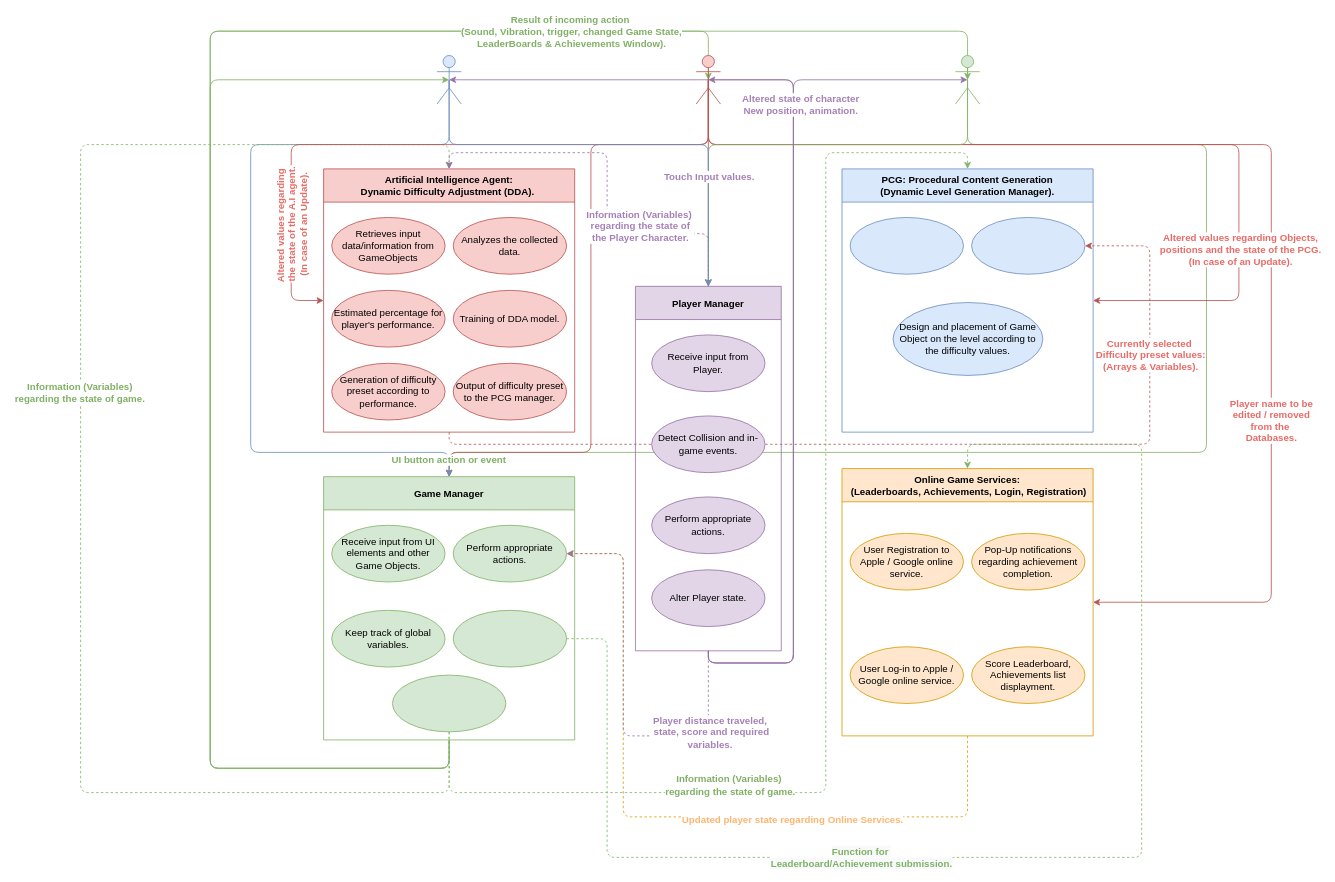
The diagram is 1335 pixels wide and 882 high, and some of its shapes have lost their labels. Each missing label, with the centre of its shape:
ADMIN: (x=707, y=79)
Alter game state.: (x=449, y=703)
Generation of required Game Objects.: (x=906, y=245)
PLAYER: (x=448, y=79)
Retrieval of difficulty preset values from DDA.: (x=1028, y=245)
Submit leaderboard scores and achievements.: (x=509, y=638)
UNREGISTERED PLAYER: (x=967, y=79)
